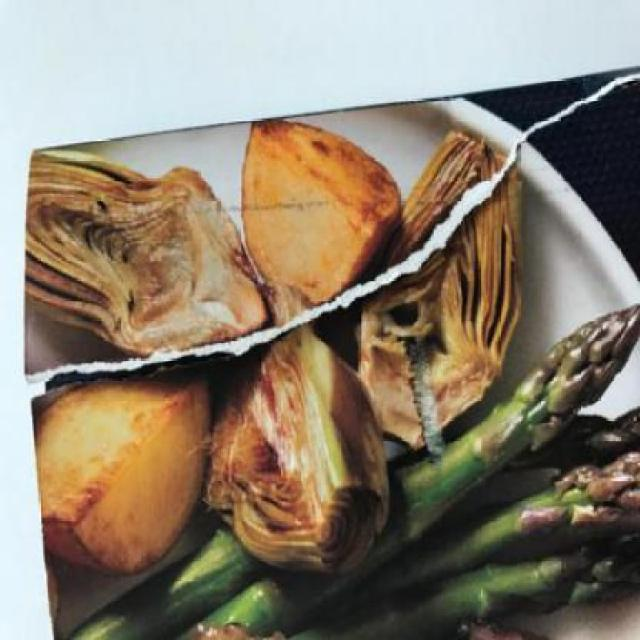PAPER: (21, 64, 638, 638)
